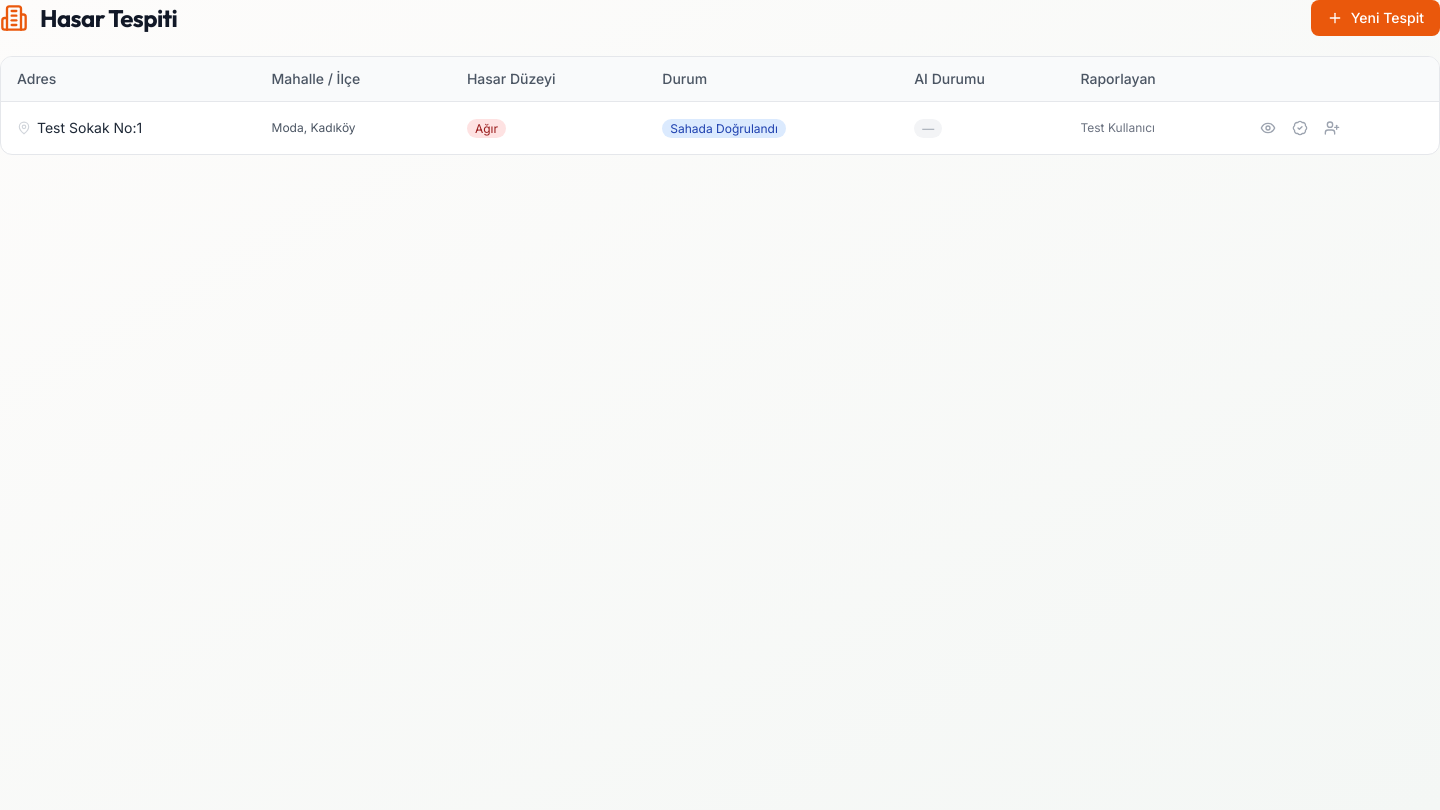
DamageAssessmentsPage (post-refactor) › shows demo AI results without enqueuing an update to the real assessment
The width and height of the screenshot is (1440, 810).
Check: the text "Test Sokak No:1" is shown, box [37, 118, 142, 138]
Click the button named "detayları gör".
click(1268, 128)  # box [1254, 114, 1282, 142]
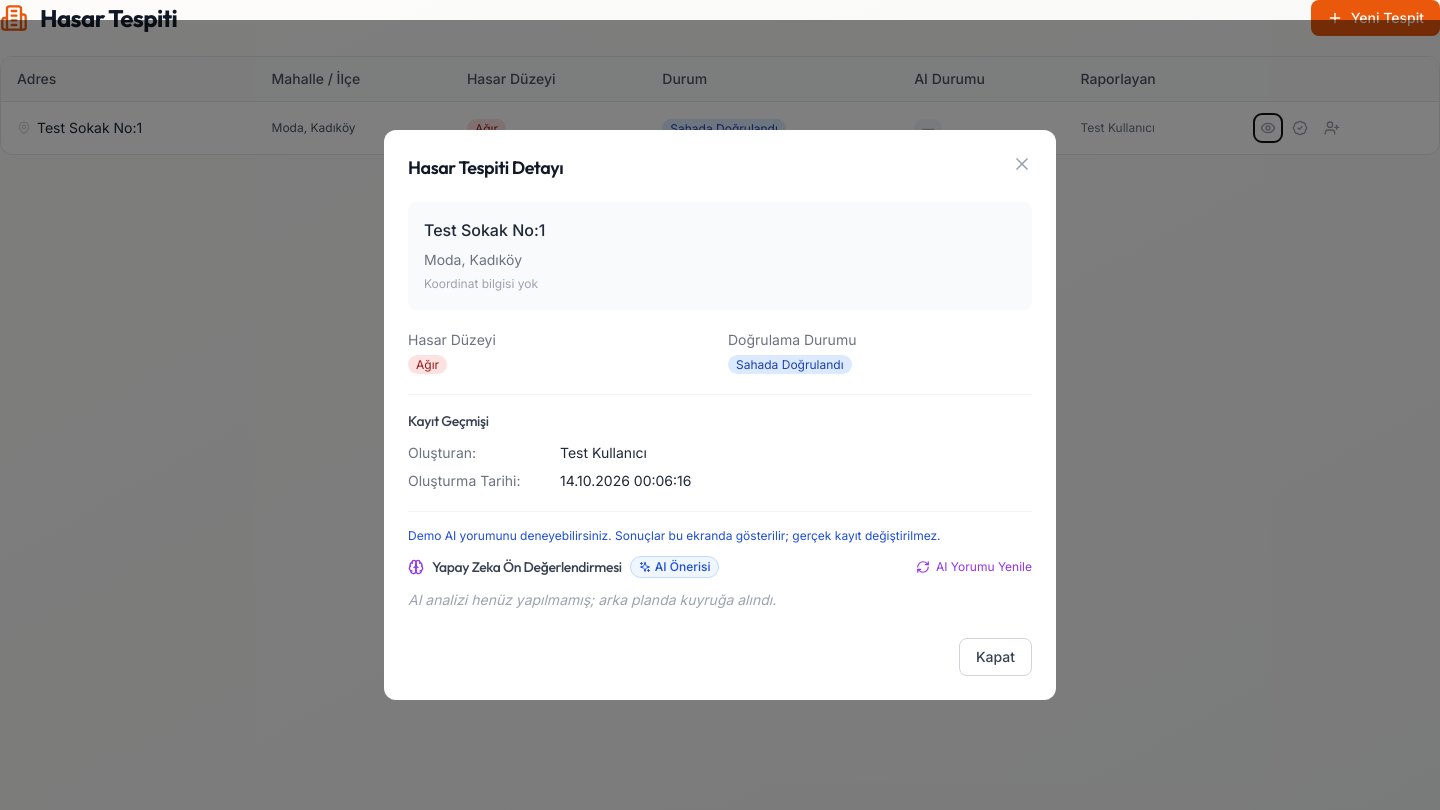
Click the button "AI Yorumu Yenile".
click(974, 567)  # box [916, 559, 1032, 575]
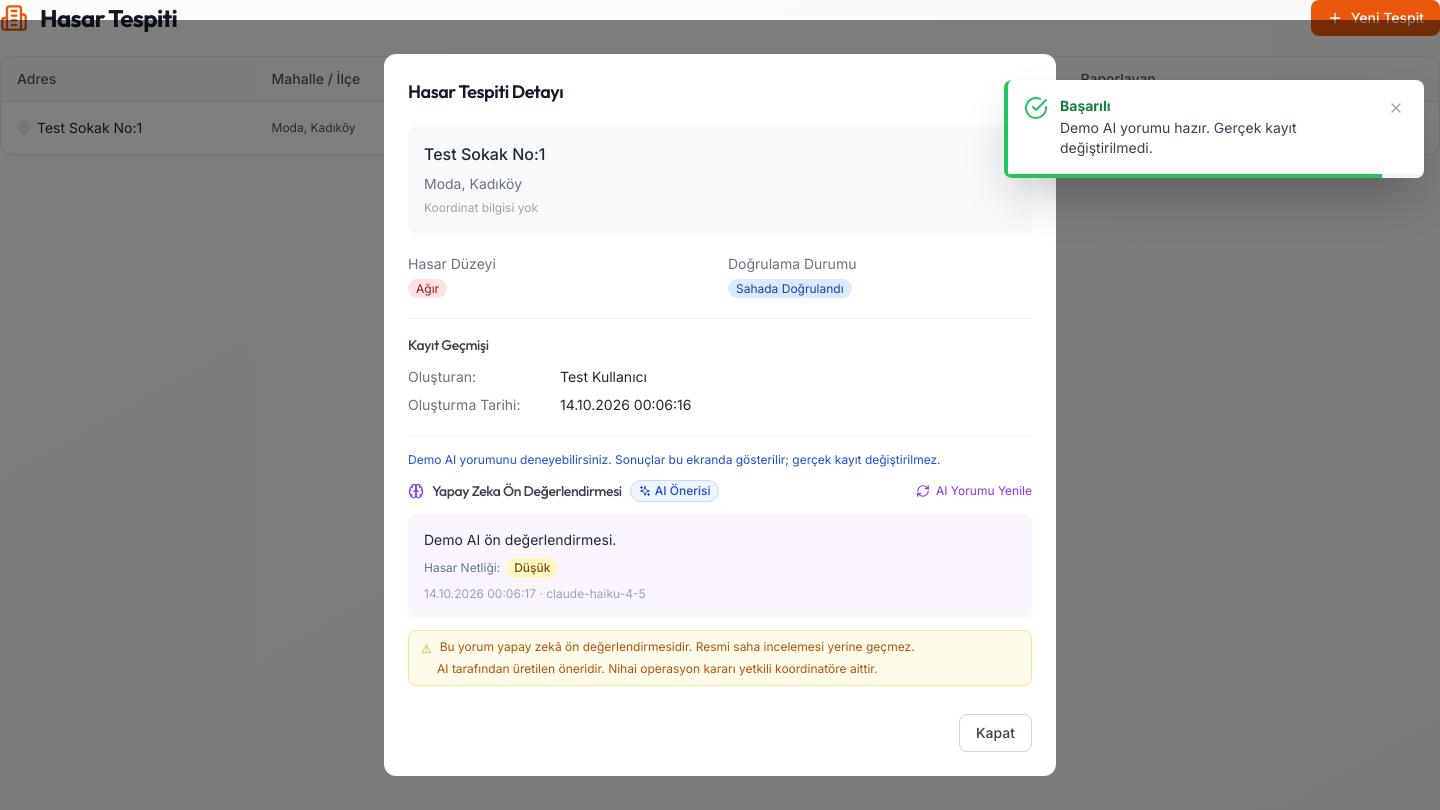
Check: the text "Demo AI ön değerlendirmesi." is shown, box [424, 531, 616, 548]
